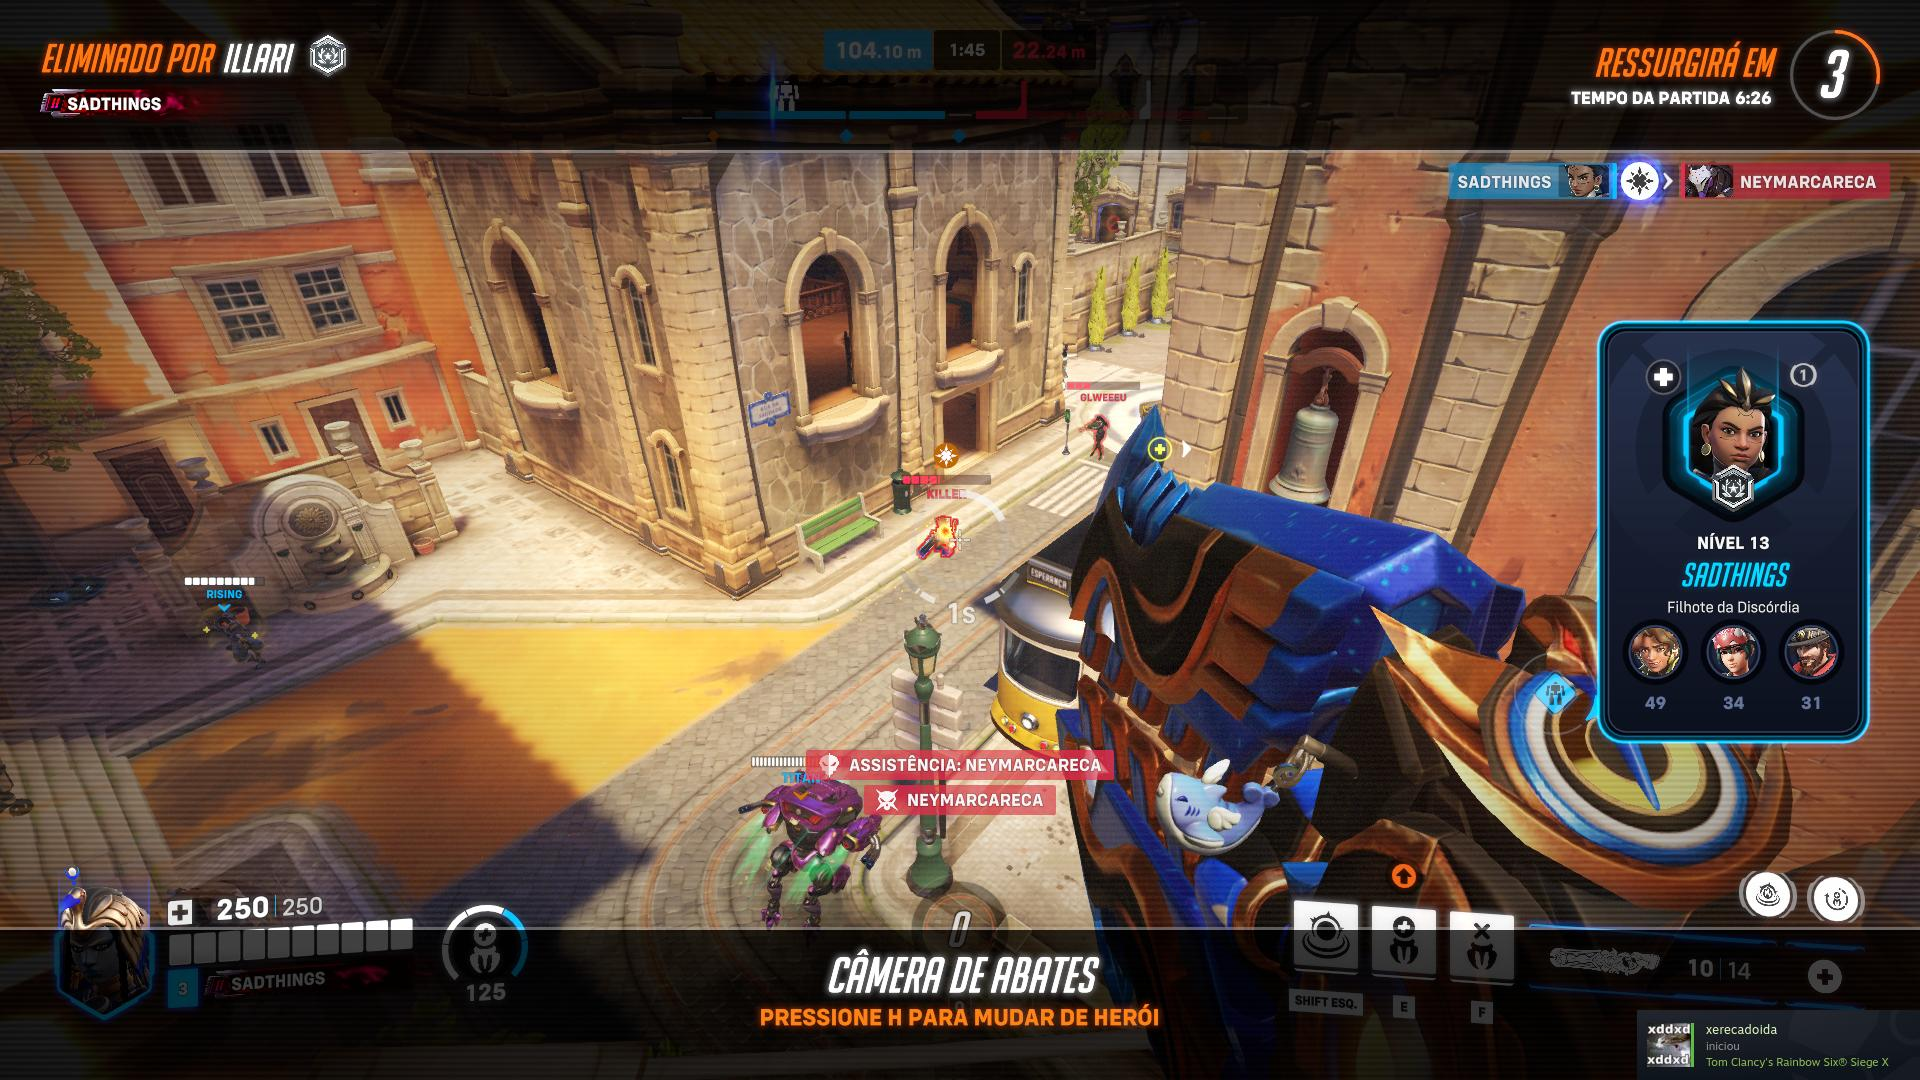enemy: (934, 514, 959, 559), (1091, 414, 1110, 462)
